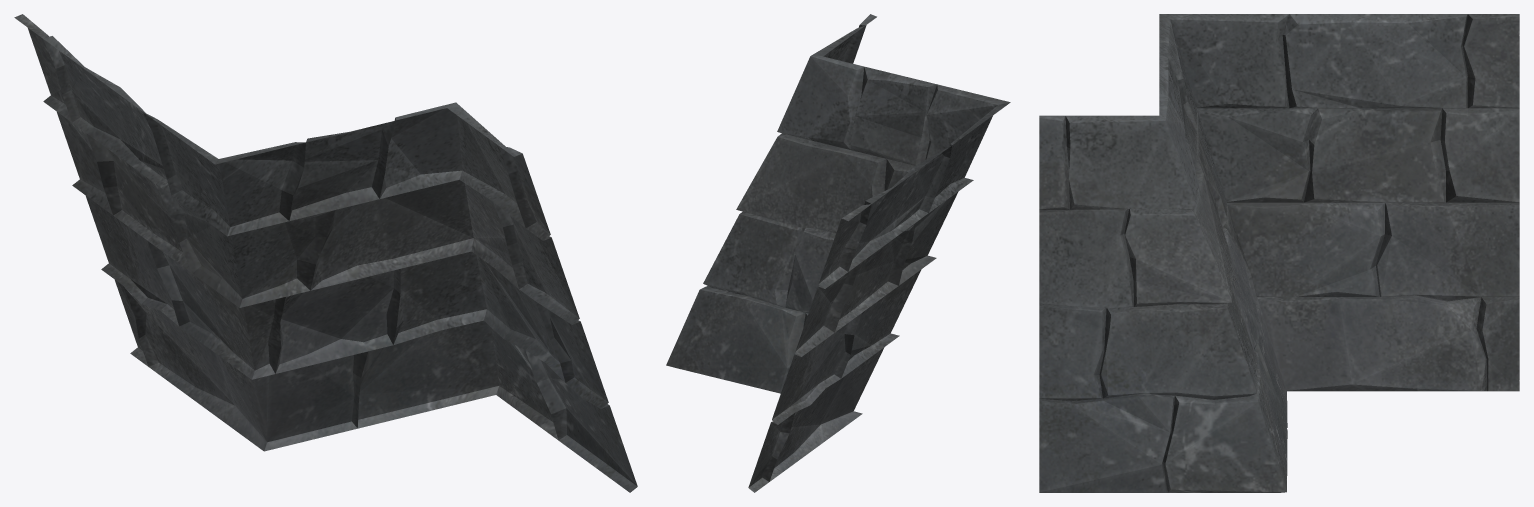
File: WallSCurve1.fbx
The picture shows the model from 3 angles, left to right: view 1: azimuth 30°, elevation 25°; view 2: azimuth 150°, elevation 25°; view 3: azimuth 270°, elevation 25°; orthographic projection. The views are drawn at different scales.
Visible parts, largest first — view 1: WALL_SCurve1; view 2: WALL_SCurve1; view 3: WALL_SCurve1.
Part boxes in pixels (left/top/right/bottom): WALL_SCurve1: left=14, top=14, right=637, bottom=492; WALL_SCurve1: left=666, top=14, right=1010, bottom=492; WALL_SCurve1: left=1039, top=14, right=1519, bottom=492.
Size of the model in its own units: 12.27 by 12.05 by 16.
Materials: 1 (1 with a texture image).
